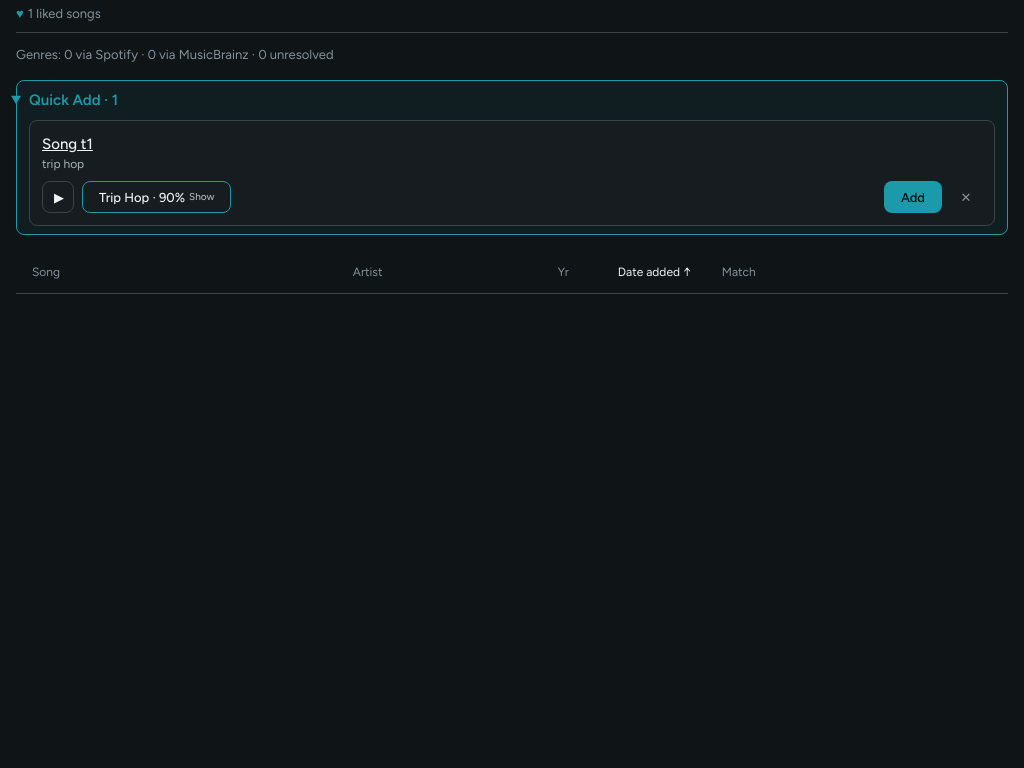
Test: surfaces an error and keeps the undo toast when saveTracks fails during undo
Click the button "Add".
click(913, 197)  # box left=884, top=181, right=942, bottom=213
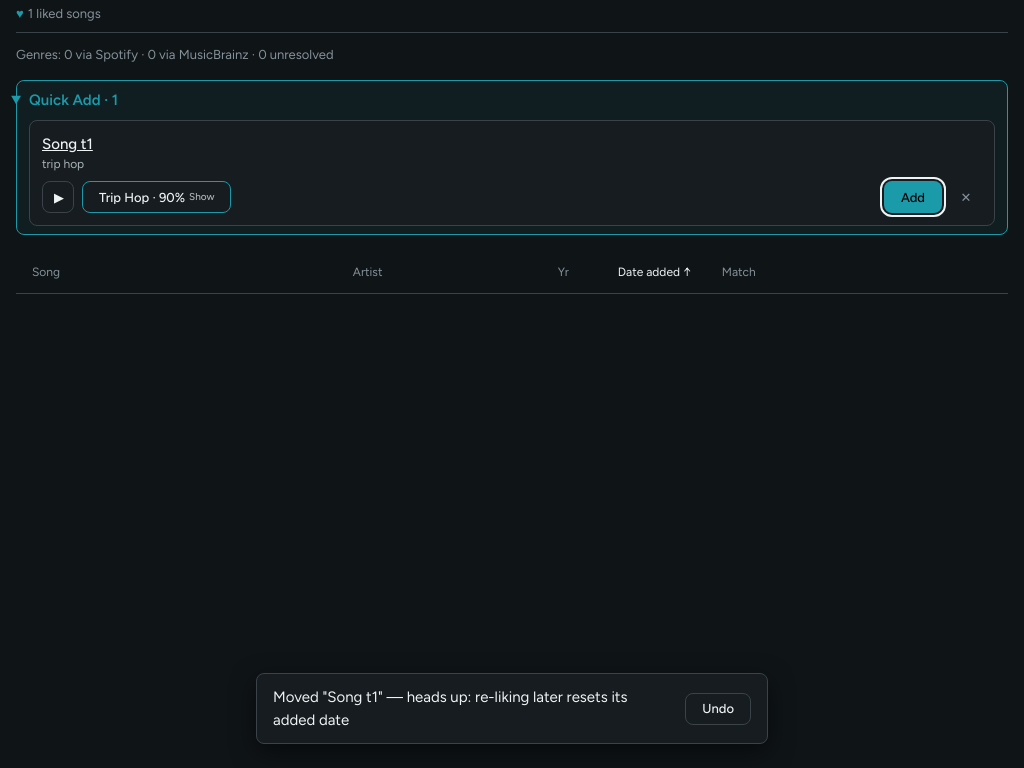
Click the button "Undo".
click(718, 708)  # box left=685, top=692, right=751, bottom=724
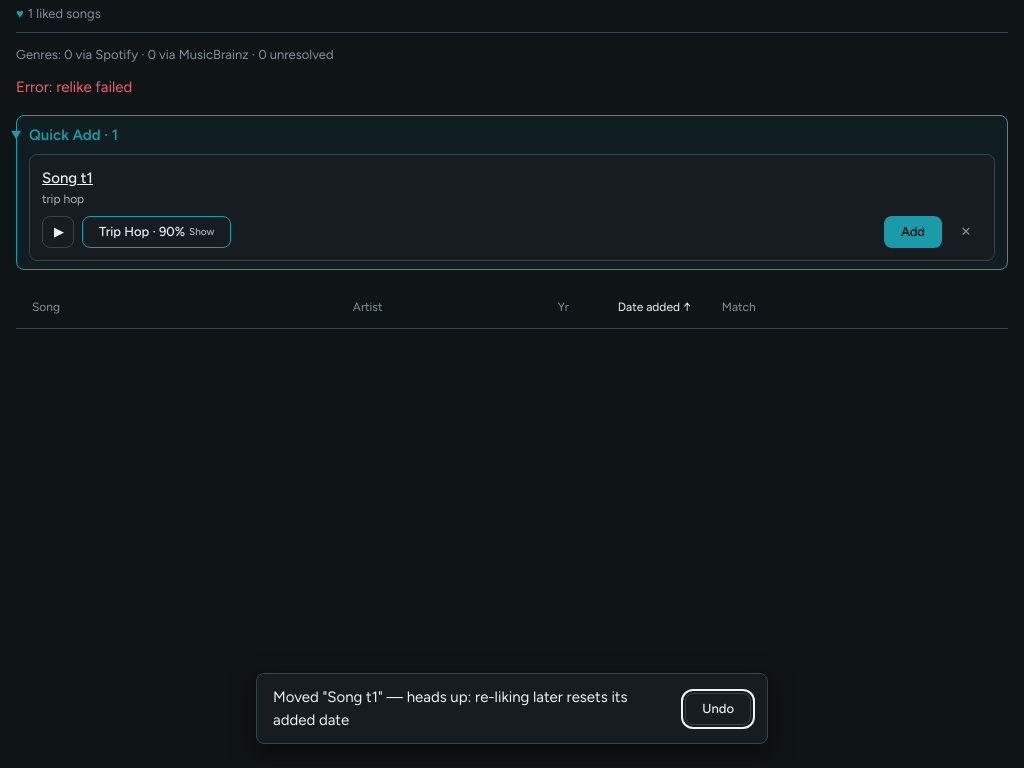
Result: the button "Undo" is shown at left=685, top=692, right=751, bottom=724
Result: the message "Error: relike failed" is shown at left=16, top=78, right=132, bottom=96
